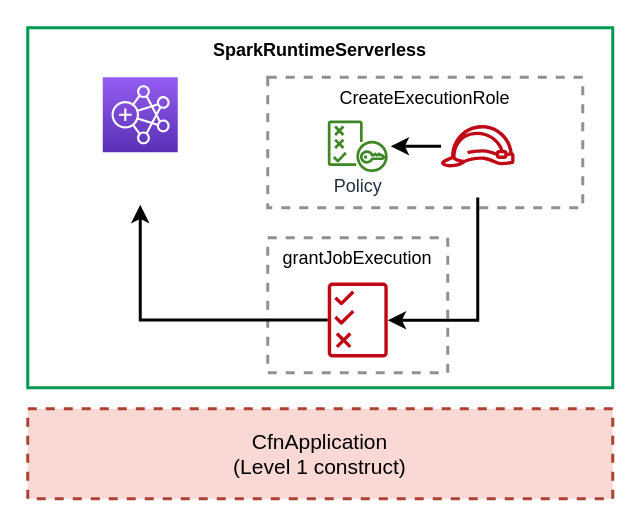
Some shapes in this 639 by 525 pixel diagram are drawn without their labels. The centre of each missing label's shape, as x and y in pixels:
"Execution role" belongs at point (477, 145).
"Spark EMR Serverless Application" belongs at point (139, 114).
